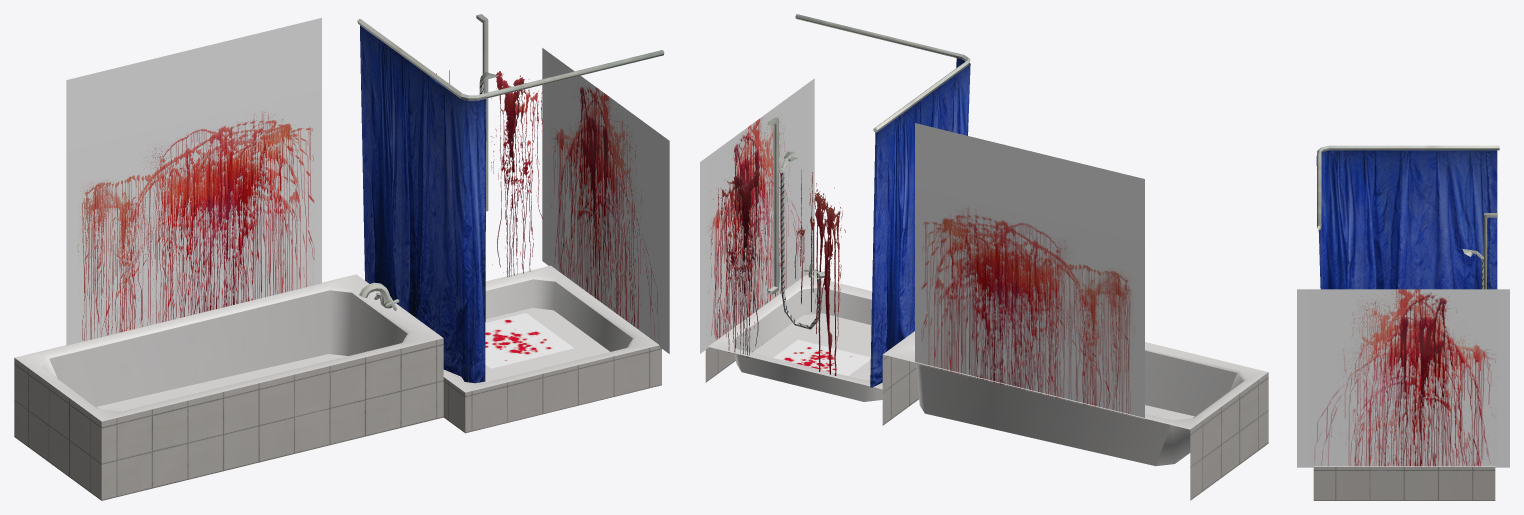
File: BloodyShower.FBX
3 renders of one model, left to right at view 1: azimuth 30°, elevation 25°; view 2: azimuth 150°, elevation 25°; view 3: azimuth 270°, elevation 25°, orthographic. The views are drawn at different scales.
Parts seen in each view (by area): view 1: BloodWide, ShowerBorder, Shower001, Curtain, BloodBig, BloodSmall, Pipe, BloodDroplet; view 2: BloodWide, Shower001, BloodBig, Curtain, ShowerBorder, BloodSmall, Pipe, BloodDroplet, ShowerPipe; view 3: BloodBig, Curtain, ShowerBorder, Pipe.
Part boxes in pixels (x1,y1,x2,y2): BloodWide: (66, 18, 321, 345); ShowerBorder: (14, 338, 661, 500); Shower001: (15, 265, 659, 421); Curtain: (360, 25, 486, 383); BloodBig: (542, 48, 669, 353); BloodSmall: (436, 70, 548, 277); Pipe: (357, 14, 664, 310); BloodDroplet: (485, 313, 573, 368); BloodWide: (915, 123, 1144, 419); Shower001: (708, 275, 1268, 466); BloodBig: (700, 78, 814, 353); Curtain: (870, 58, 970, 387); ShowerBorder: (705, 347, 1268, 500); BloodSmall: (711, 169, 845, 375); Pipe: (767, 14, 970, 294); BloodDroplet: (773, 339, 870, 375); ShowerPipe: (780, 173, 821, 329); BloodBig: (1297, 289, 1509, 467); Curtain: (1316, 150, 1497, 289); ShowerBorder: (1313, 467, 1495, 500); Pipe: (1317, 145, 1499, 289).
Bounding box in the file's own units: 170 × 102 × 68.53.
